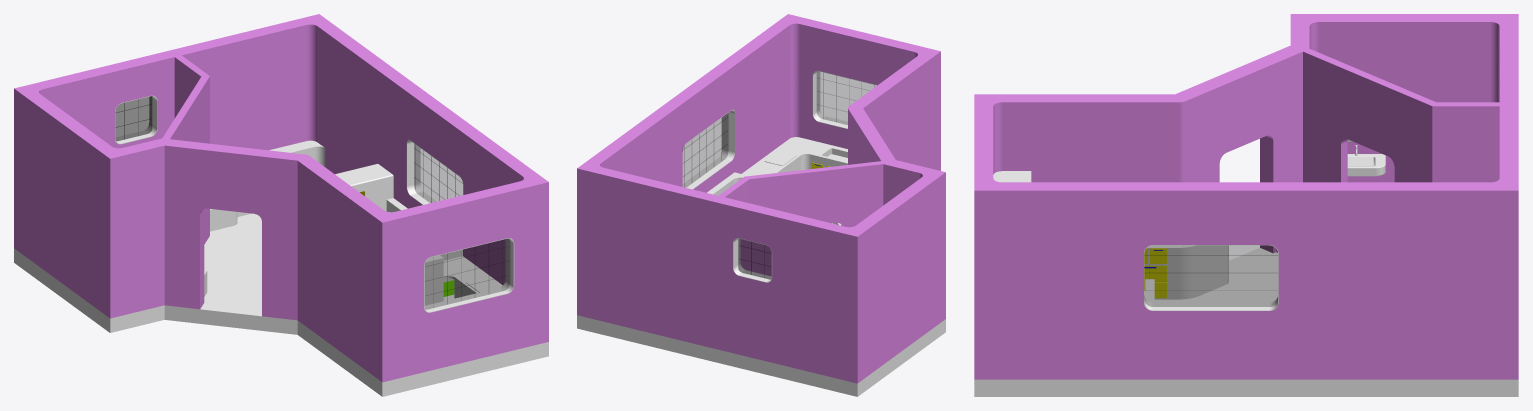
The model's file is mobility typeC OptionB.glb.
3 renders of one model, left to right at view 1: azimuth 30°, elevation 25°; view 2: azimuth 150°, elevation 25°; view 3: azimuth 270°, elevation 25°, orthographic. The views are drawn at different scales.
Visible parts, largest first — view 1: wall, floor, 玻璃, 窗框（金属）, 橱柜，木制或者整体性强的材质, 岛台，木色或者和沙发底框一个颜色, 床（15MM 软包边-皮质）, 木板; view 2: wall, floor, 玻璃, 窗框（金属）, 橱柜，木制或者整体性强的材质, 沙发（15MM 软包边-皮质）; view 3: wall, floor, 玻璃, 橱柜，木制或者整体性强的材质, 窗框（金属）, 柜门，区别于整体的柜子, 陶瓷（白色）.
Boxes of the visible parts, box(x1,y1,x2,y2) form: wall: box(14, 14, 548, 382); floor: box(14, 213, 548, 396); 玻璃: box(115, 96, 509, 309); 窗框（金属）: box(115, 95, 514, 312); 橱柜，木制或者整体性强的材质: box(424, 255, 502, 305); 岛台，木色或者和沙发底框一个颜色: box(335, 164, 393, 211); 床（15MM 软包边-皮质）: box(269, 140, 325, 166); 木板: box(443, 256, 478, 279); wall: box(577, 14, 945, 383); floor: box(577, 223, 945, 396); 玻璃: box(683, 71, 876, 279); 窗框（金属）: box(682, 70, 877, 282); 橱柜，木制或者整体性强的材质: box(749, 137, 847, 225); 沙发（15MM 软包边-皮质）: box(707, 172, 748, 195); wall: box(974, 14, 1518, 379); floor: box(974, 248, 1518, 396); 玻璃: box(1144, 245, 1277, 306); 橱柜，木制或者整体性强的材质: box(993, 171, 1228, 299); 窗框（金属）: box(1144, 245, 1278, 310); 柜门，区别于整体的柜子: box(1144, 248, 1166, 298); 陶瓷（白色）: box(1347, 154, 1385, 176).
Size of the model in its own units: 6.6 by 3.6 by 8.6.
